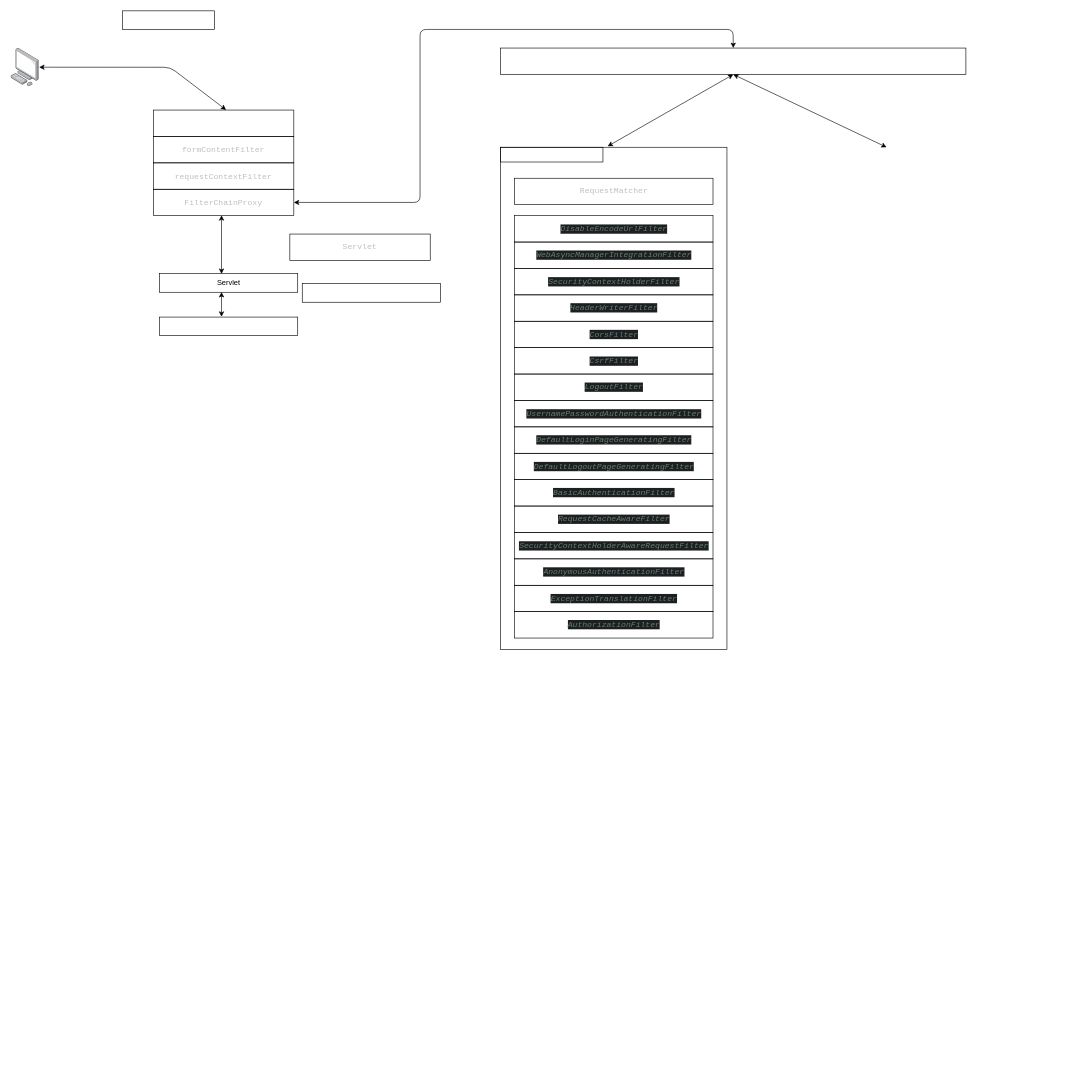
Image size: 1087x1088. Some labels were removed from this diagram. The shapes that lost their labels are listed below. From the top down, each one's box as (x1, y1, x2, y2) in pixels, then its label:
(122, 10, 214, 29): WebApp
(500, 47, 966, 74): HttpFirewall
(153, 109, 294, 136): characterEncodingFilter
(500, 147, 603, 162): SecurityFilterChain1
(302, 283, 440, 302): User
(159, 316, 298, 336): Controller
